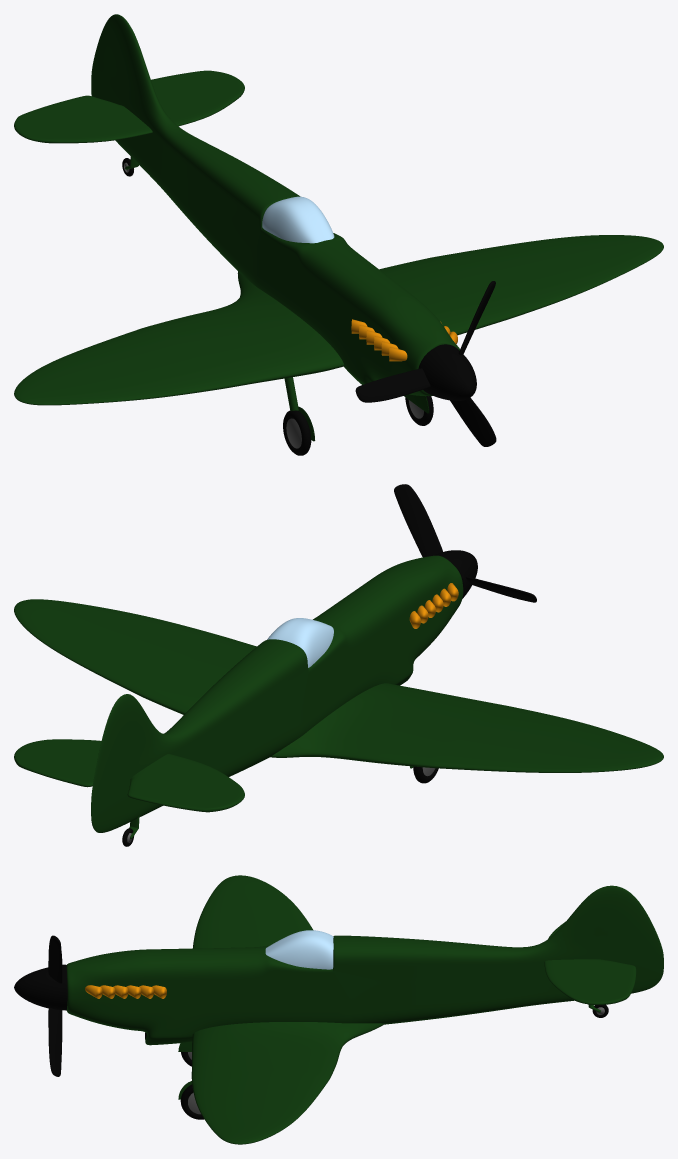
File: spitfire.glb
3 views of the same model, one above another, from view 1: azimuth 30°, elevation 25°; view 2: azimuth 150°, elevation 25°; view 3: azimuth 270°, elevation 25° (orthographic). The views are drawn at different scales.
Parts seen in each view (by area): view 1: wings, Fuselage, horozontal stablizer, windshield, nosecone, Cube.003, Cube.002, Torus.001; view 2: wings, Fuselage, horozontal stablizer, windshield, Cube.001, nosecone, Cube.003; view 3: Fuselage, wings, horozontal stablizer, windshield, nosecone, Cube.002, Cube.001.
Boxes of the visible parts, bbox=[...] form: wings: bbox=[14, 235, 663, 405]; Fuselage: bbox=[91, 14, 459, 396]; horozontal stablizer: bbox=[14, 70, 244, 143]; windshield: bbox=[262, 196, 334, 243]; nosecone: bbox=[418, 344, 476, 400]; Cube.003: bbox=[355, 368, 430, 402]; Cube.002: bbox=[450, 397, 496, 446]; Torus.001: bbox=[283, 410, 311, 455]; wings: bbox=[14, 599, 663, 772]; Fuselage: bbox=[91, 555, 463, 832]; horozontal stablizer: bbox=[14, 739, 244, 812]; windshield: bbox=[267, 618, 333, 667]; Cube.001: bbox=[394, 484, 442, 557]; nosecone: bbox=[434, 550, 477, 598]; Cube.003: bbox=[465, 576, 536, 602]; Fuselage: bbox=[66, 885, 663, 1045]; wings: bbox=[191, 875, 384, 1144]; horozontal stablizer: bbox=[544, 921, 636, 1004]; windshield: bbox=[265, 930, 333, 969]; nosecone: bbox=[14, 964, 67, 1010]; Cube.002: bbox=[48, 1008, 62, 1076]; Cube.001: bbox=[48, 935, 62, 983].
Bounding box in the file's own units: 24.18 × 8.82 × 24.75.
